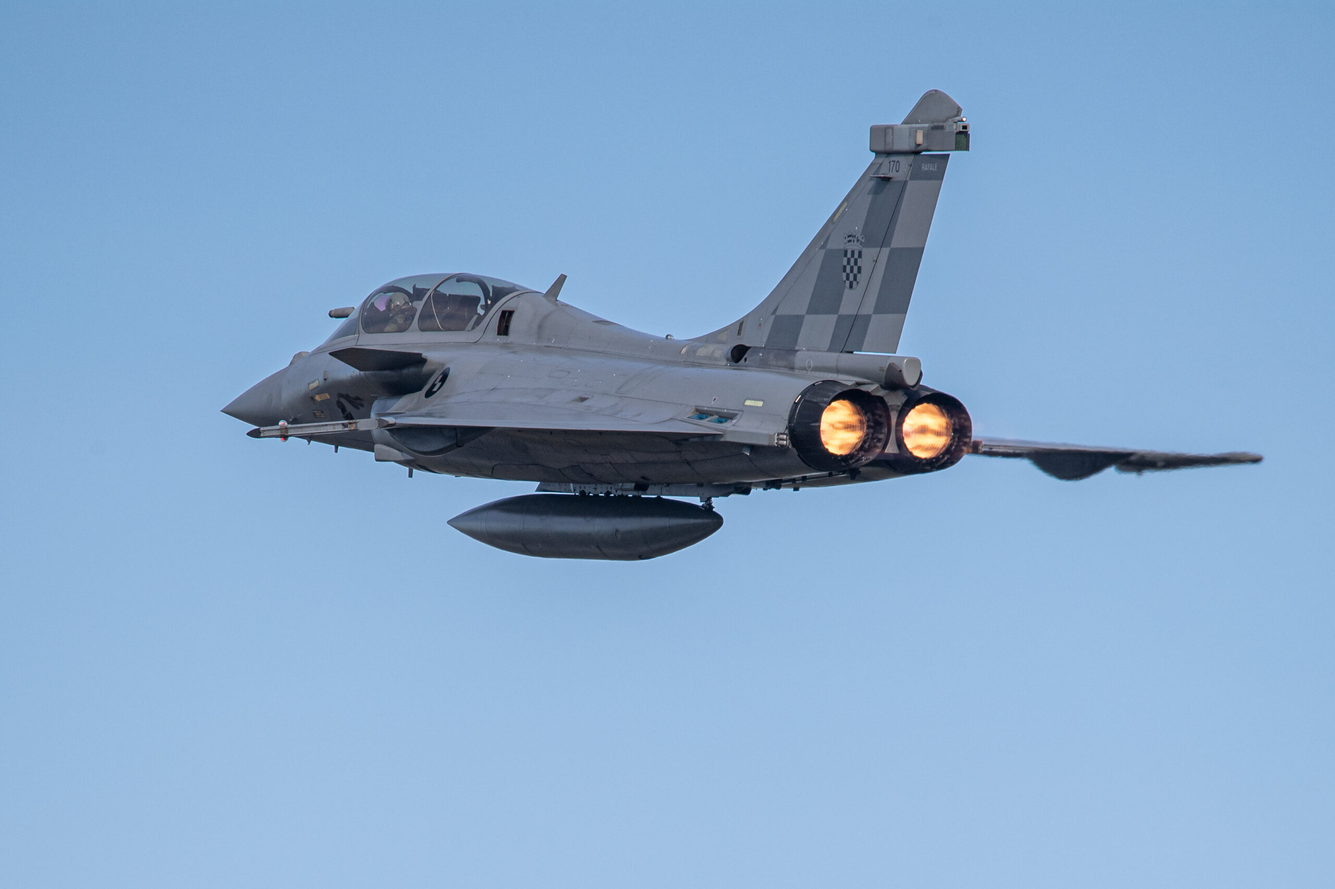Rafale: (211, 77, 1270, 591)
